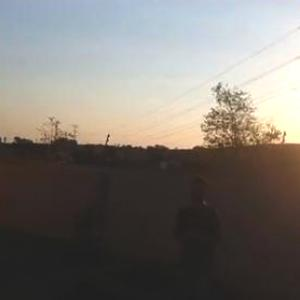follow: (165, 173, 225, 299)
